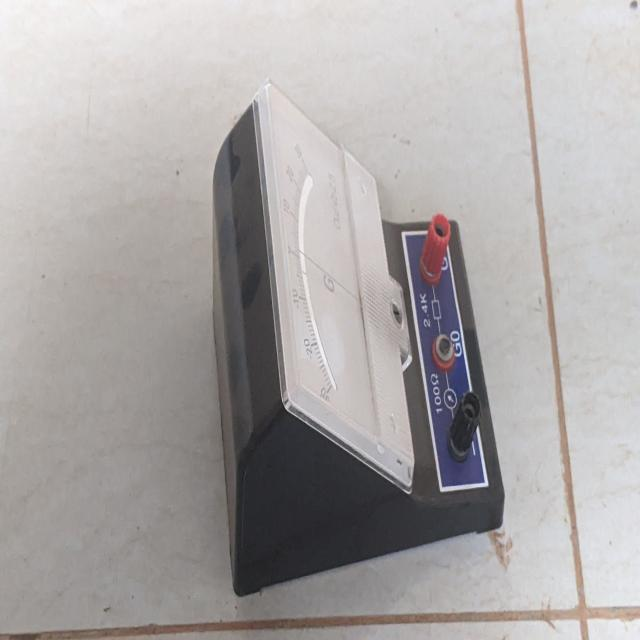Galvanometer: (192, 71, 530, 598)
